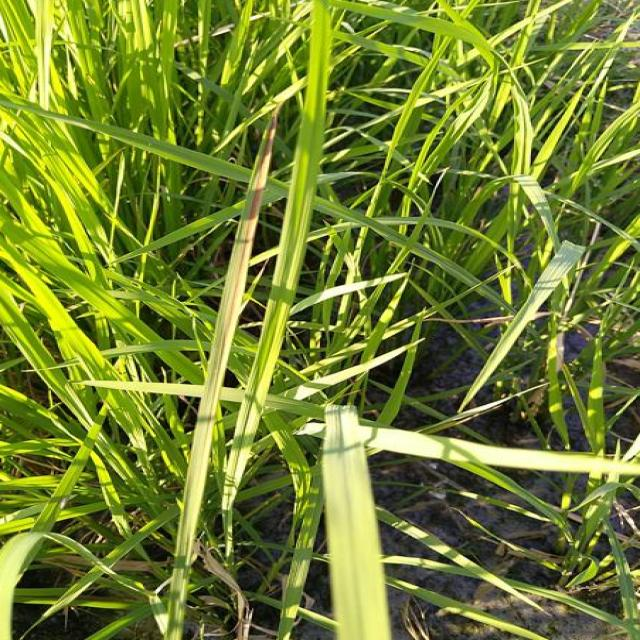Leaf Streak: (221, 124, 276, 365)
